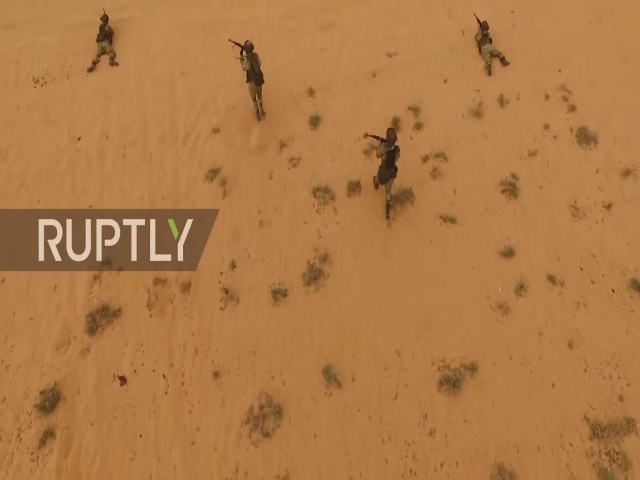person: (228, 33, 269, 124), (369, 127, 404, 221), (468, 12, 511, 77), (87, 10, 122, 75)
